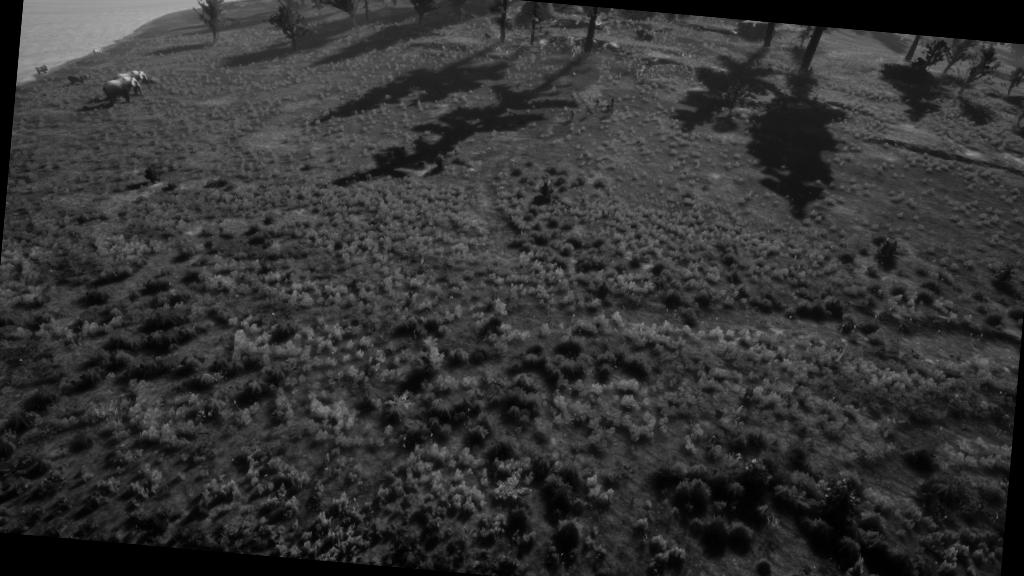Fire: (520, 25, 560, 54), (482, 18, 519, 48)
elephant: (99, 74, 147, 112), (110, 65, 156, 99)
hippopotamus: (66, 70, 95, 88)
human: (564, 105, 580, 125), (603, 97, 619, 116), (581, 102, 592, 120), (592, 95, 603, 112)
lion: (33, 60, 54, 78)
zebra: (88, 42, 108, 60)
